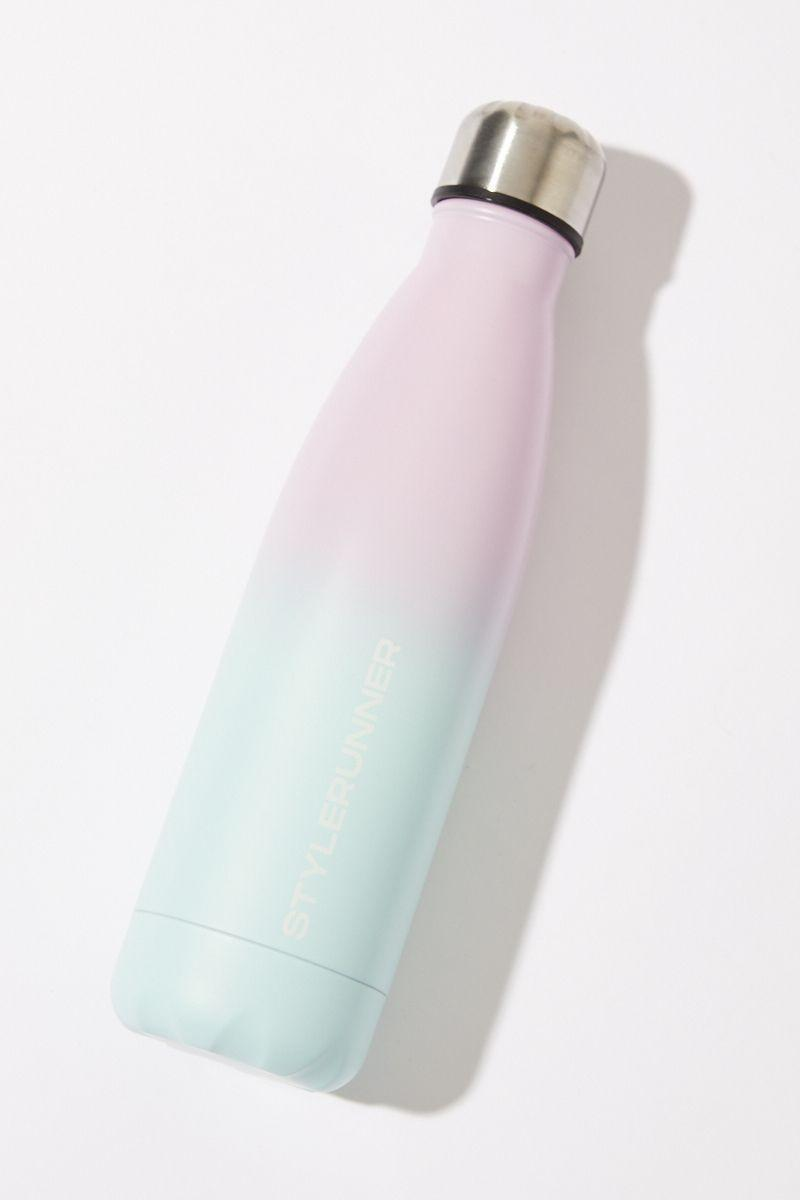gym bottle: (99, 99, 607, 1122)
